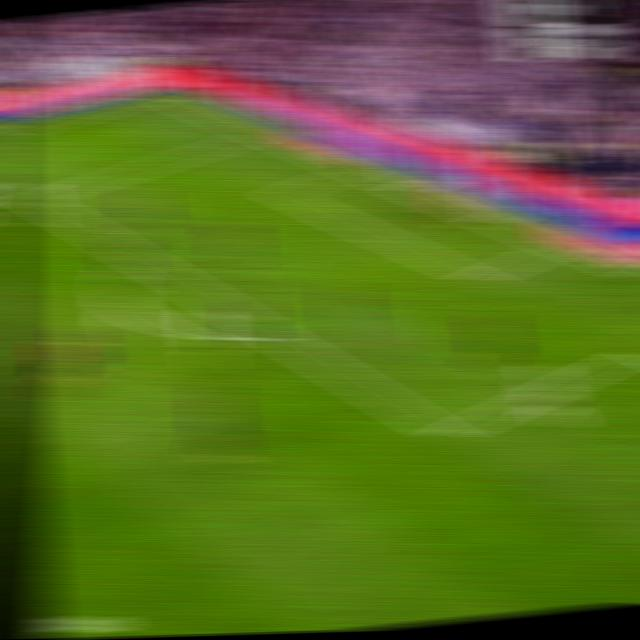bigarea_bottom_inner: (428, 419, 465, 450)
bigarea_top_outter: (241, 125, 273, 141)
bottom_arc_area_intersection: (256, 321, 293, 349)
corner: (144, 88, 177, 101)
smallarea_bottom_inner: (462, 266, 496, 290)
smallarea_top_inner: (269, 185, 299, 203)
top_arc_area_intersection: (118, 246, 149, 263)
